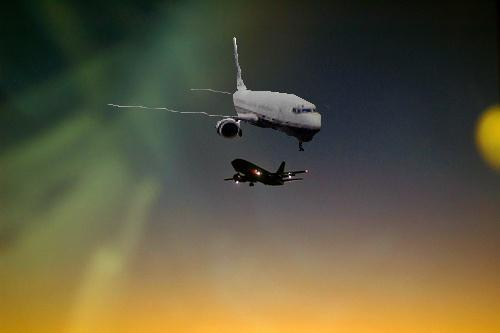tampered: (109, 38, 321, 151)
